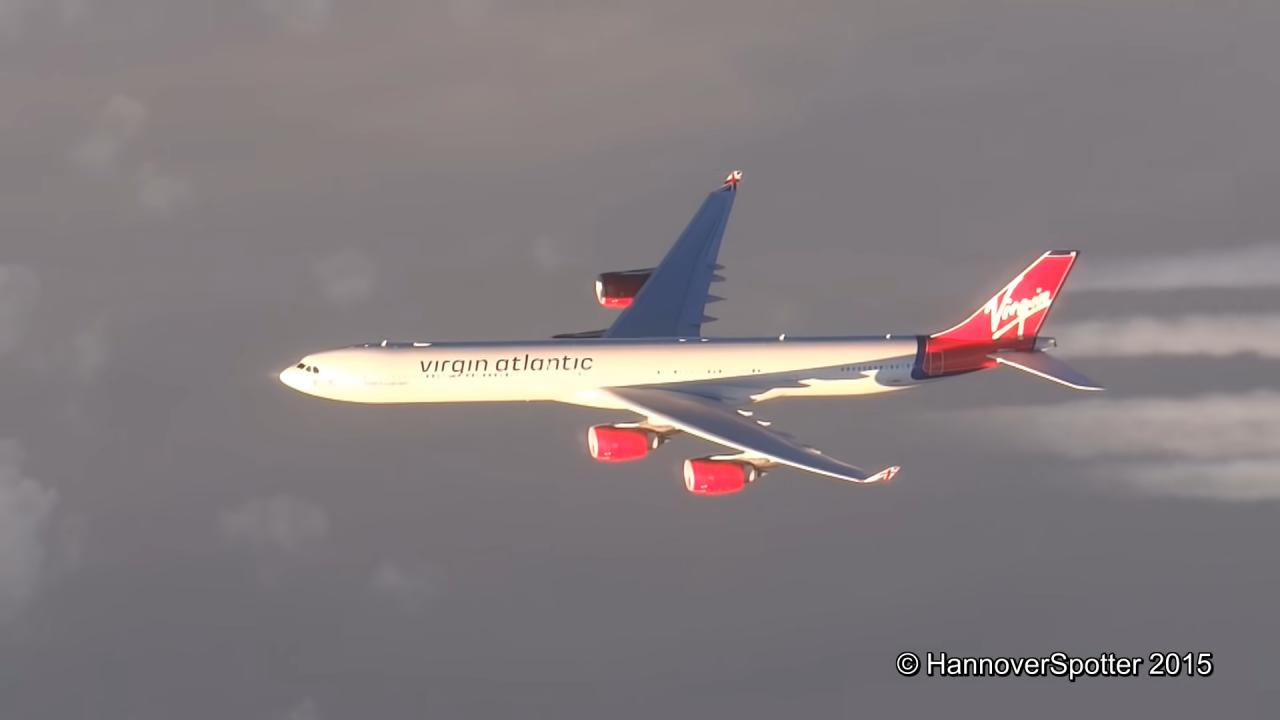Airplane: (264, 152, 1116, 505)
